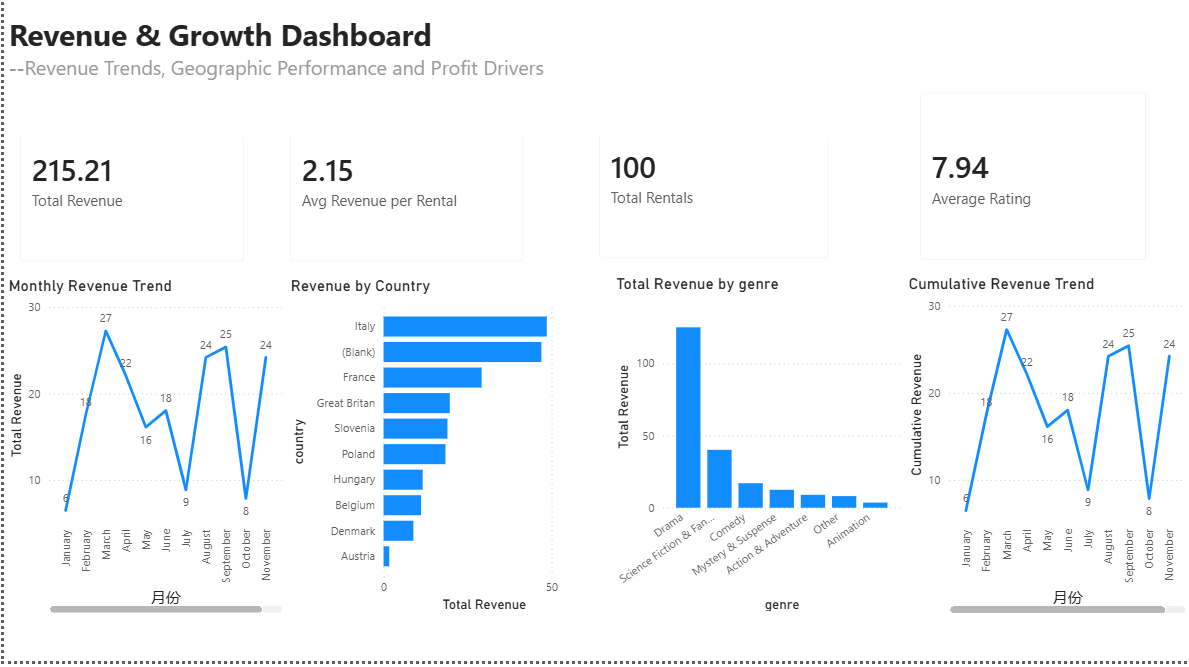

The page's visual inventory and layout, read from the dashboard file:
{"tool":"powerbi","page":{"name":"Revenue & Growth Dashboard","canvas":[1280,720],"ordinal":2},"visuals":[{"type":"cardVisual","fields":{"Data":["actors.Total Revenue"]},"box":[0,91.6,276.9,213.1],"z":0},{"type":"cardVisual","fields":{"Data":["actors.Avg Revenue per Rental"]},"box":[290.8,91.6,286.8,213.1],"z":1000},{"type":"cardVisual","fields":{"Data":["CountNonNull(renting.renting_id)"]},"box":[625.4,89.6,282.8,213.1],"z":2000},{"type":"cardVisual","fields":{"Data":["Avg(renting.rating)"]},"box":[972,89.6,278.8,215.1],"z":3000},{"type":"lineChart","title":"Monthly Revenue Trend","fields":{"Category":["renting.date_renting.变体.日期层次结构.月份"],"Y":["actors.Total Revenue"]},"box":[0,304.7,304.7,368.5],"z":4000},{"type":"clusteredBarChart","title":"Revenue by Country","fields":{"Category":["customers.country"],"Y":["actors.Total Revenue"]},"box":[304.7,304.7,334.6,366.5],"z":5000},{"type":"clusteredColumnChart","fields":{"Category":["movies.genre"],"Y":["actors.Total Revenue"]},"box":[655.3,302.7,316.7,368.5],"z":6000},{"type":"lineChart","title":"Cumulative Revenue Trend","fields":{"Category":["renting.date_renting.变体.日期层次结构.月份"],"Y":["actors.Cumulative Revenue"]},"box":[972,302.7,308.7,370.5],"z":7000},{"type":"textbox","box":[0,15.9,908.2,137.4],"z":8000}]}

Visuals, with their boxes in screenshot pixels (x1, y1, x2, y2), scaled from the page's 1280x720 canvas onto the 1189x667 screenshot:
cardVisual - actors.Total Revenue: BBox(0, 85, 257, 282)
cardVisual - actors.Avg Revenue per Rental: BBox(270, 85, 537, 282)
cardVisual - CountNonNull(renting.renting_id): BBox(581, 83, 844, 280)
cardVisual - Avg(renting.rating): BBox(903, 83, 1162, 282)
"Monthly Revenue Trend" lineChart: BBox(0, 282, 283, 624)
"Revenue by Country" clusteredBarChart: BBox(283, 282, 594, 622)
clusteredColumnChart - movies.genre x actors.Total Revenue: BBox(609, 280, 903, 622)
"Cumulative Revenue Trend" lineChart: BBox(903, 280, 1188, 624)
textbox: BBox(0, 15, 844, 142)
